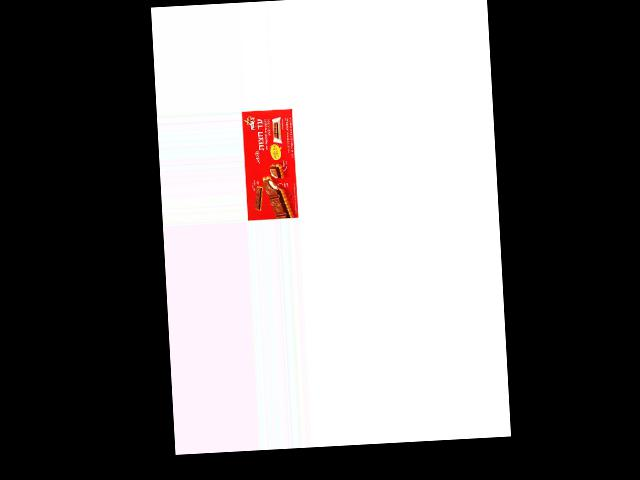chocolate: (241, 106, 298, 221)
